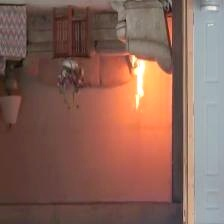fire: (128, 65, 157, 110)
